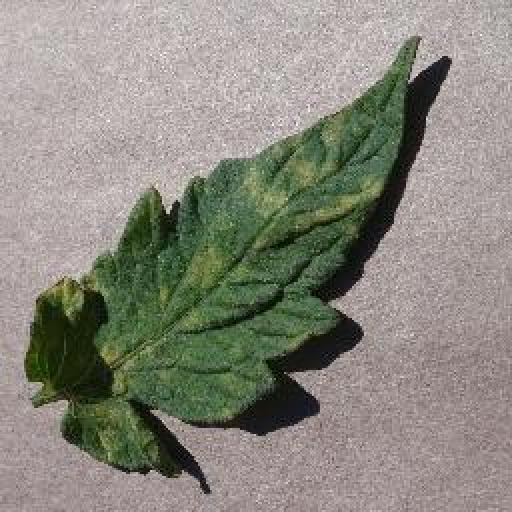disease_tomato: (26, 34, 423, 472)
